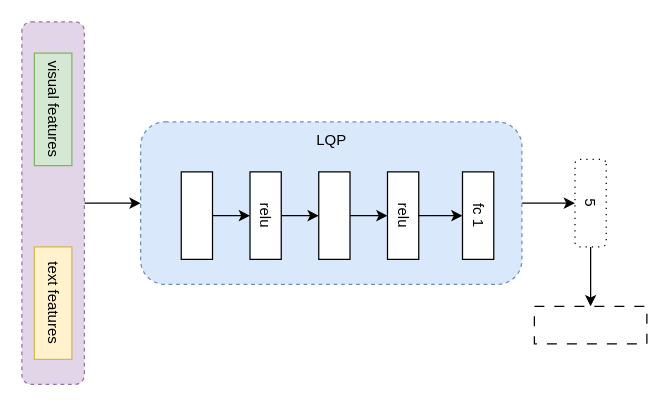
The diagram is 669 pixels wide and 406 high, and some of its shapes have lost their labels. Each missing label, with the box of its shape:
fc 256: (318, 171, 350, 259)
fc 512: (180, 171, 212, 259)
К-сть лейблів: (533, 305, 647, 344)
